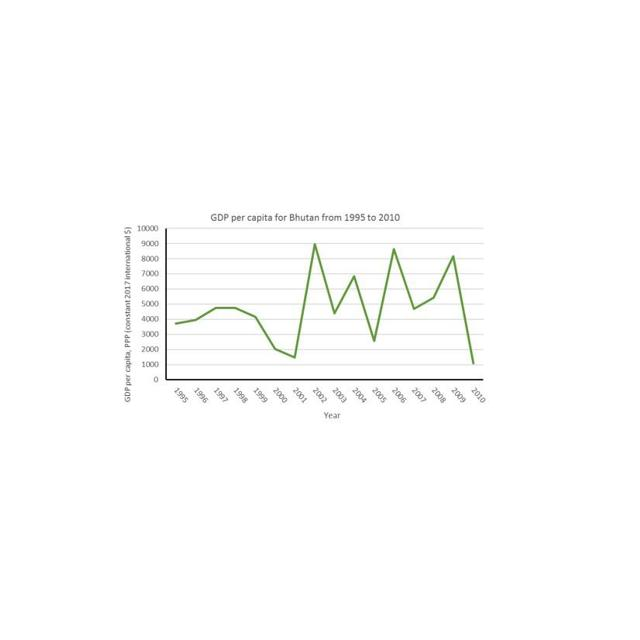Graph: (118, 206, 489, 423)
